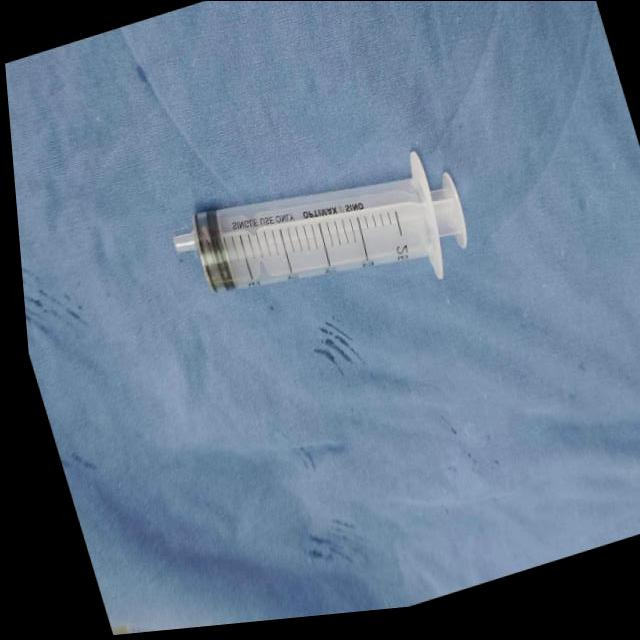Sharps: (171, 149, 468, 292)
